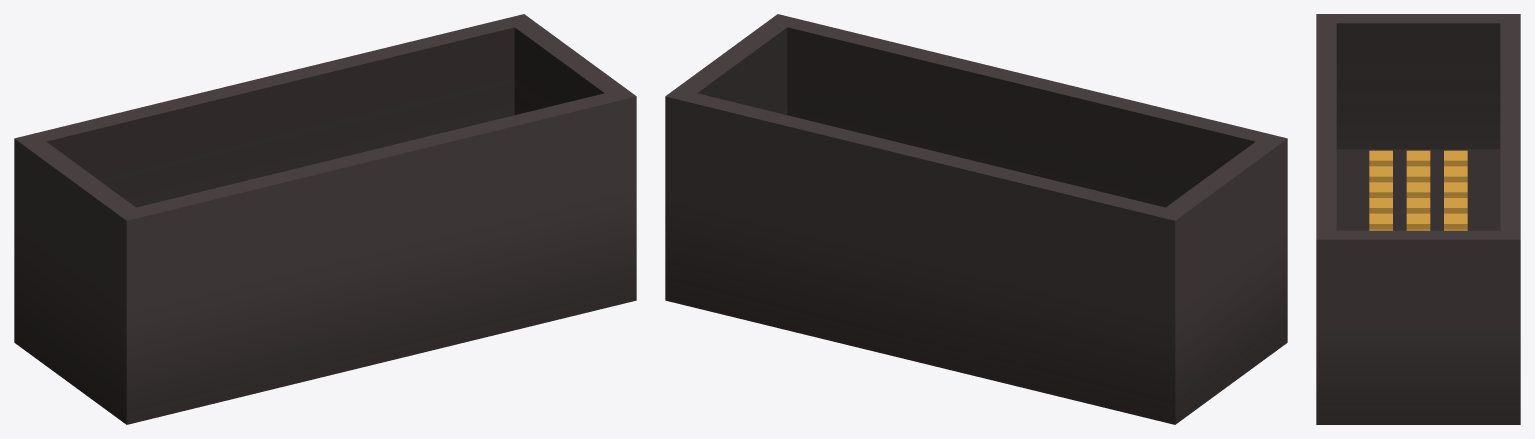
Rendered from itemFrame.fbx.
3 views of the same model, side by side, from view 1: azimuth 30°, elevation 25°; view 2: azimuth 150°, elevation 25°; view 3: azimuth 270°, elevation 25° (orthographic). The views are drawn at different scales.
Parts seen in each view (by area): view 1: ItemSlotOutside, ItemSlotInside; view 2: ItemSlotOutside, ItemSlotInside; view 3: ItemSlotOutside, ItemSlotInside, Pins.
Part boxes in pixels (box(x1,y1,x2,y2)): ItemSlotOutside: box(14, 14, 636, 424); ItemSlotInside: box(46, 27, 604, 207); ItemSlotOutside: box(665, 14, 1287, 424); ItemSlotInside: box(697, 27, 1255, 207); ItemSlotOutside: box(1316, 14, 1520, 424); ItemSlotInside: box(1336, 23, 1500, 230); Pins: box(1369, 150, 1467, 230).
Bounding box in the file's own units: 653 × 250 × 250.
